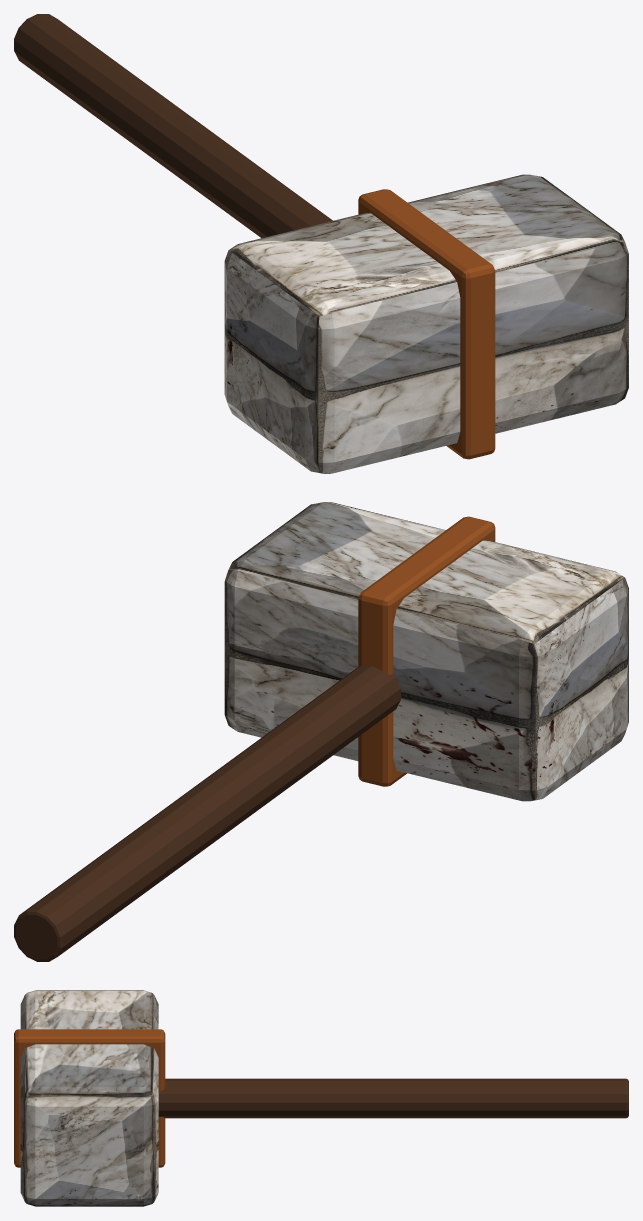
Rendered from colossus_maul_LOD1.glb.
3 renders of one model, top to bottom at view 1: azimuth 30°, elevation 25°; view 2: azimuth 150°, elevation 25°; view 3: azimuth 270°, elevation 25°, orthographic. The views are drawn at different scales.
Visible parts, largest first — view 1: LOD1_Head, LOD1_Haft, LOD1_Band; view 2: LOD1_Head, LOD1_Haft, LOD1_Band; view 3: LOD1_Head, LOD1_Haft, LOD1_Band.
Boxes of the visible parts, x1,y1,x2,y2 form: LOD1_Head: (224, 174, 628, 473); LOD1_Haft: (14, 14, 332, 238); LOD1_Band: (358, 189, 495, 459); LOD1_Head: (224, 502, 628, 801); LOD1_Haft: (14, 666, 400, 961); LOD1_Band: (358, 516, 495, 786); LOD1_Head: (20, 990, 158, 1206); LOD1_Haft: (158, 1078, 628, 1118); LOD1_Band: (14, 1029, 165, 1167).
Size of the model in its own units: 0.78 by 0.44 by 1.87.
3 materials, 1 textured.
